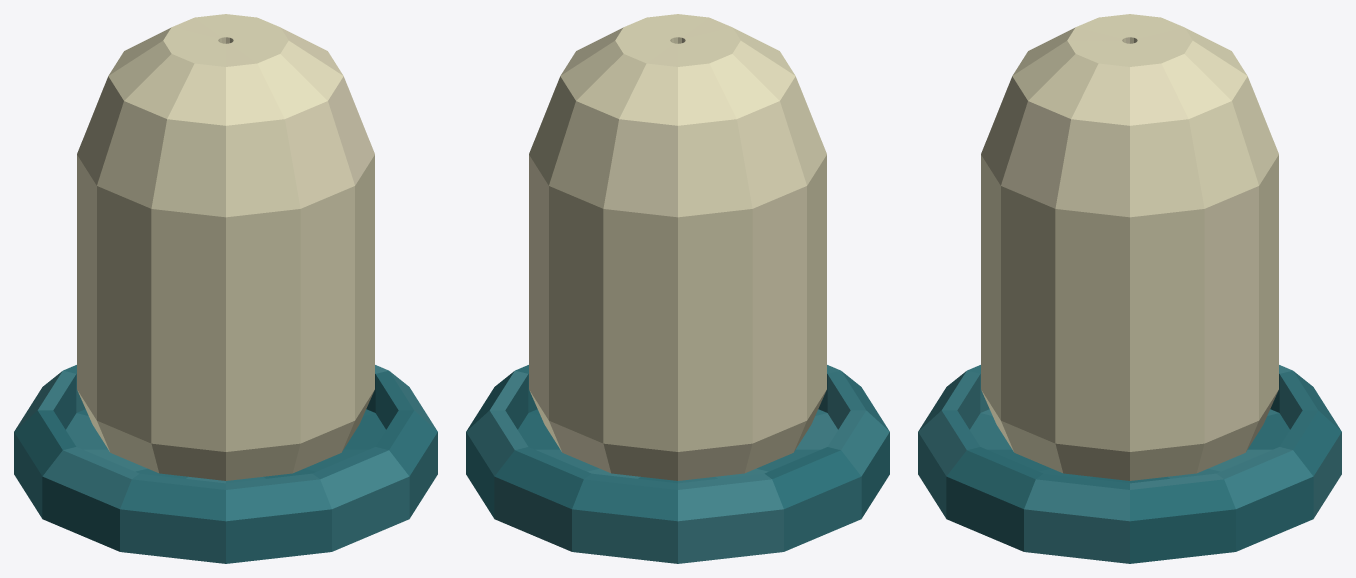
Rendered from C06_ChickenDrinker.fbx.
3 views of the same model, side by side, from view 1: azimuth 30°, elevation 25°; view 2: azimuth 150°, elevation 25°; view 3: azimuth 270°, elevation 25° (orthographic).
Visible parts, largest first — view 1: C06_ChickenDrinker.007; view 2: C06_ChickenDrinker.007; view 3: C06_ChickenDrinker.007.
Boxes of the visible parts, x1,y1,x2,y2 form: C06_ChickenDrinker.007: (14,14,437,563); C06_ChickenDrinker.007: (466,14,889,563); C06_ChickenDrinker.007: (918,14,1341,563).
Bounding box in the file's own units: 0.54 × 0.61 × 0.54.
